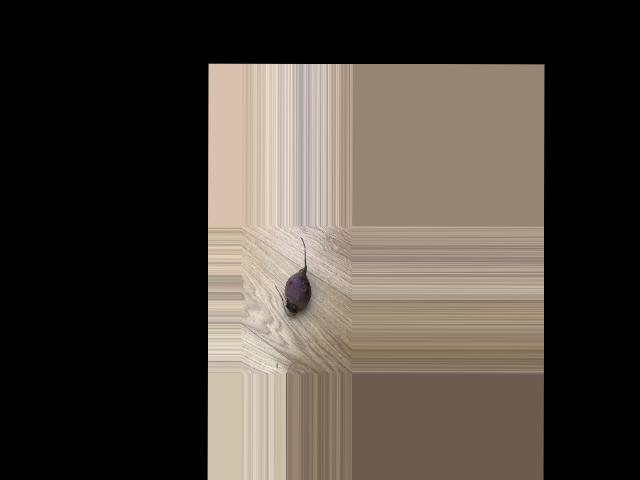beet: (275, 236, 311, 316)
